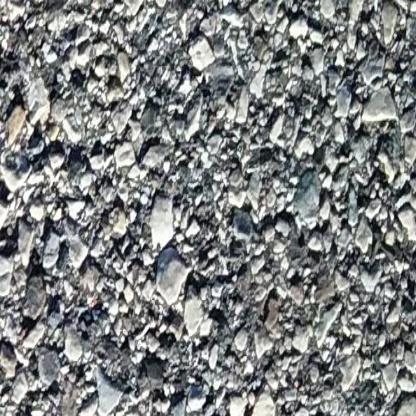Cracks: (0, 136, 127, 174)
